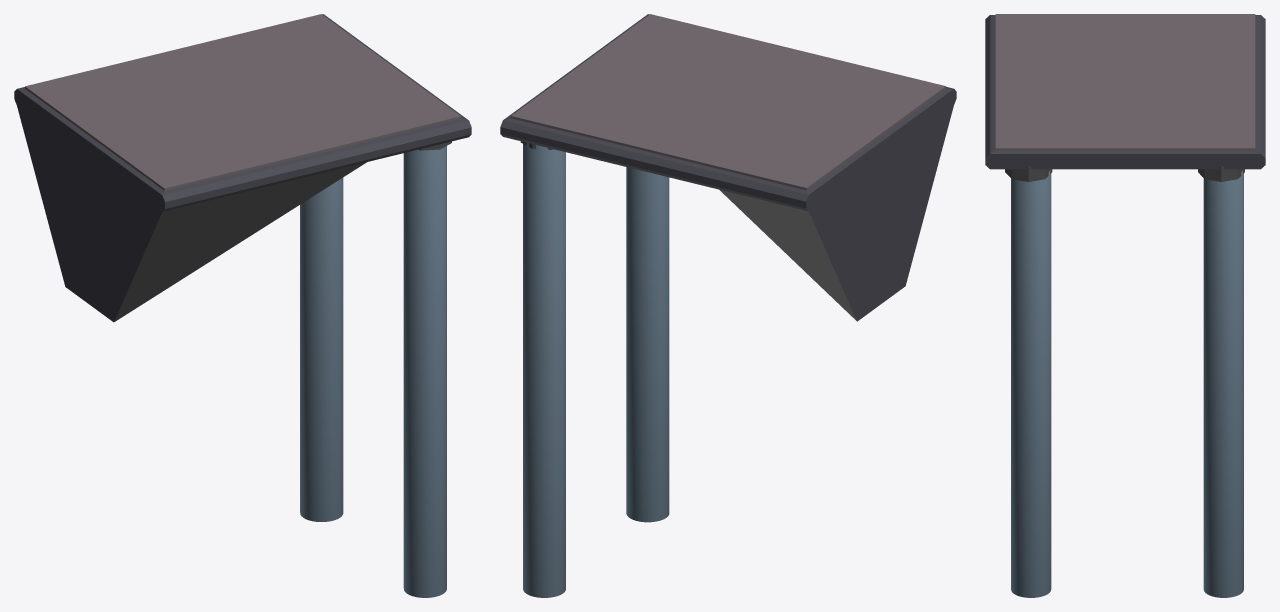
File: Ramp.fbx
The picture shows the model from 3 angles, left to right: view 1: azimuth 30°, elevation 25°; view 2: azimuth 150°, elevation 25°; view 3: azimuth 270°, elevation 25°; orthographic projection. The views are drawn at different scales.
Parts seen in each view (by area): view 1: Cube, Cylinder.016, Cylinder.018; view 2: Cube, Cylinder.018, Cylinder.016; view 3: Cube, Cylinder.016, Cylinder.018, Cylinder.014, Cylinder.017.
Part boxes in pixels (x1=…): Cube: x1=14, y1=14, x2=471, y2=322; Cylinder.016: x1=403, y1=146, x2=446, y2=597; Cylinder.018: x1=300, y1=177, x2=343, y2=521; Cube: x1=500, y1=14, x2=956, y2=321; Cylinder.018: x1=523, y1=142, x2=565, y2=597; Cylinder.016: x1=626, y1=167, x2=669, y2=522; Cube: x1=985, y1=14, x2=1265, y2=169; Cylinder.016: x1=1011, y1=170, x2=1051, y2=597; Cylinder.018: x1=1203, y1=171, x2=1243, y2=597; Cylinder.014: x1=1005, y1=166, x2=1052, y2=181; Cylinder.017: x1=1198, y1=166, x2=1244, y2=181.
Size of the model in its own units: 3870 by 5799 by 3288.
